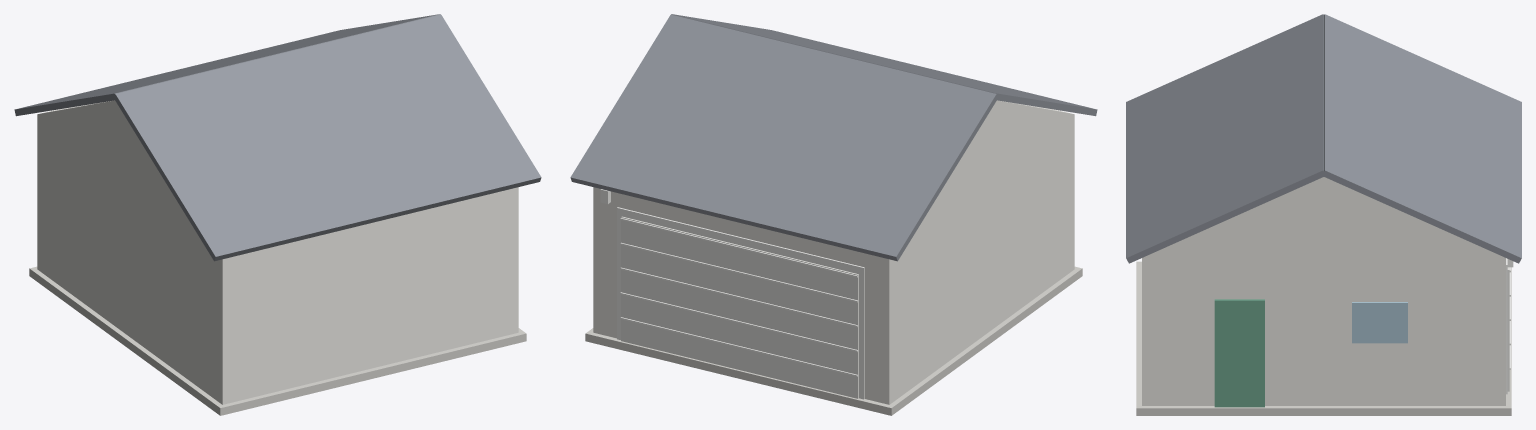
The model's file is garage.glb.
The picture shows the model from 3 angles, left to right: view 1: azimuth 30°, elevation 25°; view 2: azimuth 150°, elevation 25°; view 3: azimuth 270°, elevation 25°; orthographic projection.
Visible parts, largest first — view 1: body; view 2: body; view 3: body.
Part boxes in pixels (x1,y1,x2,y2): body: [14, 14, 541, 415]; body: [570, 14, 1097, 415]; body: [1126, 14, 1521, 415].
Size of the model in its own units: 6.6 by 4.93 by 7.06.
